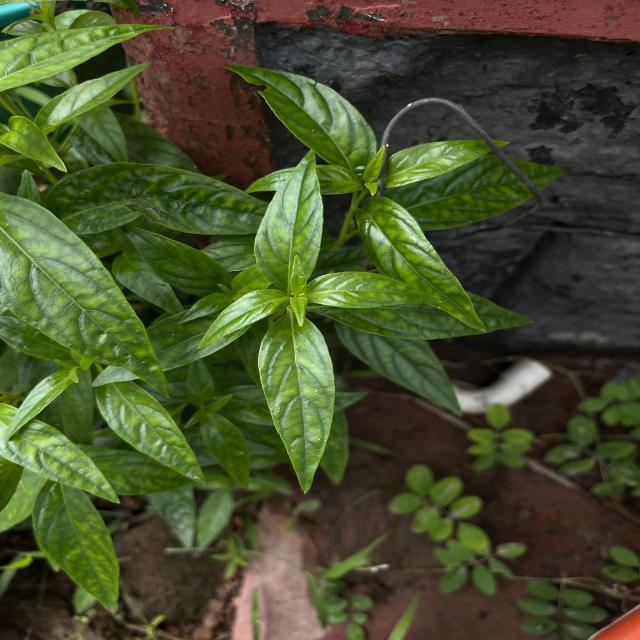Andrographis paniculata: (0, 191, 174, 394), (355, 193, 488, 334), (42, 162, 270, 237), (222, 61, 379, 168), (257, 314, 337, 494), (30, 476, 123, 616), (0, 402, 122, 505), (96, 377, 209, 487), (1, 23, 176, 94), (336, 321, 463, 418), (253, 147, 325, 286), (34, 60, 154, 132), (122, 223, 231, 294), (384, 138, 511, 188), (196, 287, 288, 350), (306, 270, 446, 310), (1, 114, 70, 173), (200, 414, 252, 490)
